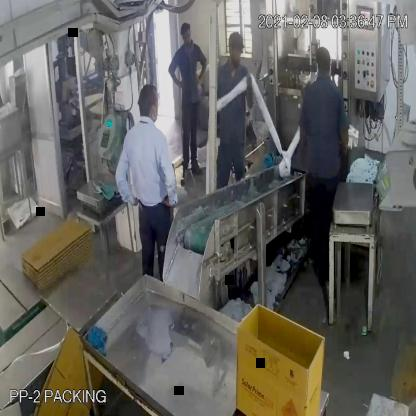no_glove: (155, 146, 186, 219), (116, 148, 140, 214), (170, 53, 191, 90), (195, 48, 213, 88)
